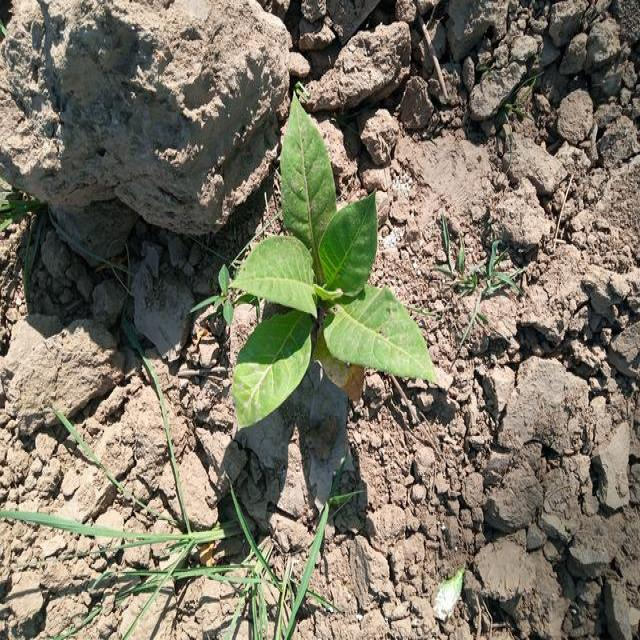crop: (236, 113, 418, 410)
